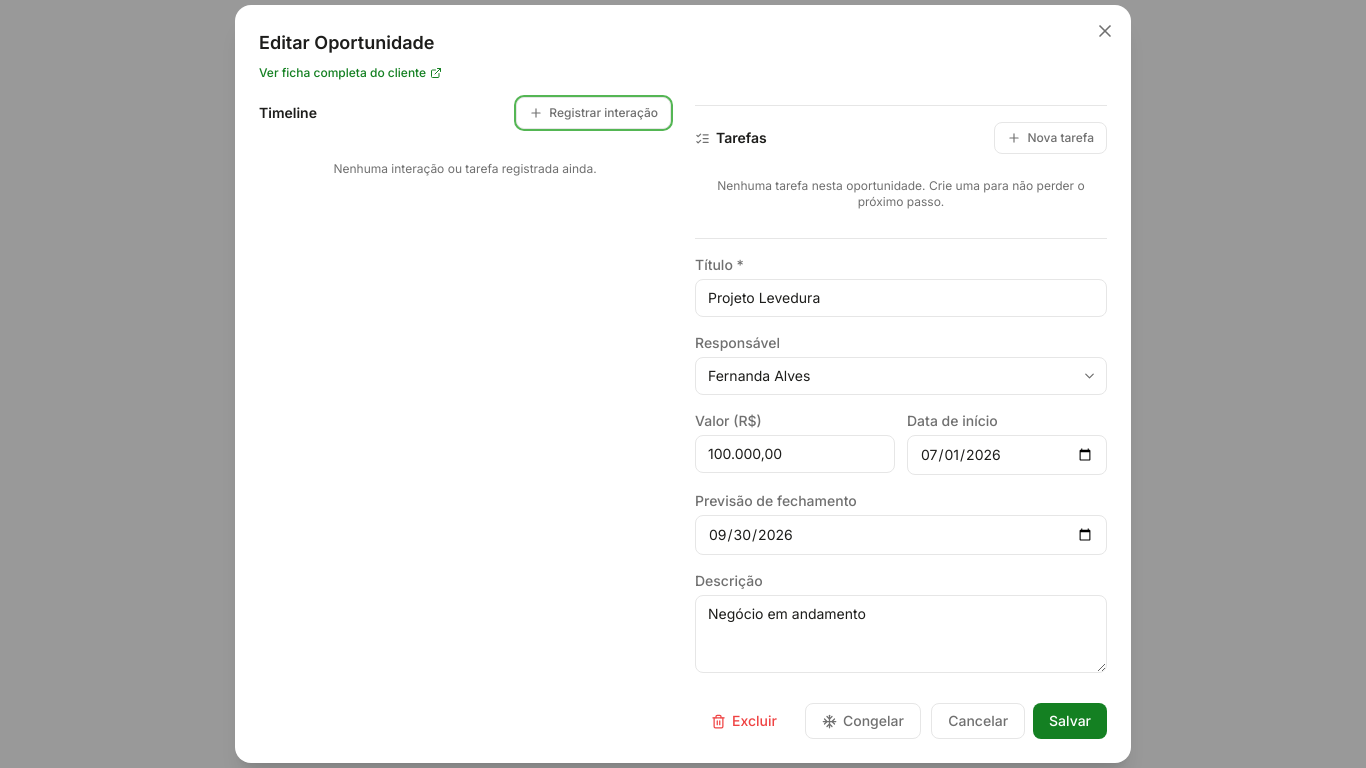
OpportunityDialog — edit mode › should ask for confirmation before deleting the deal
Click the button "Excluir".
click(744, 721)  # box [695,703,793,739]
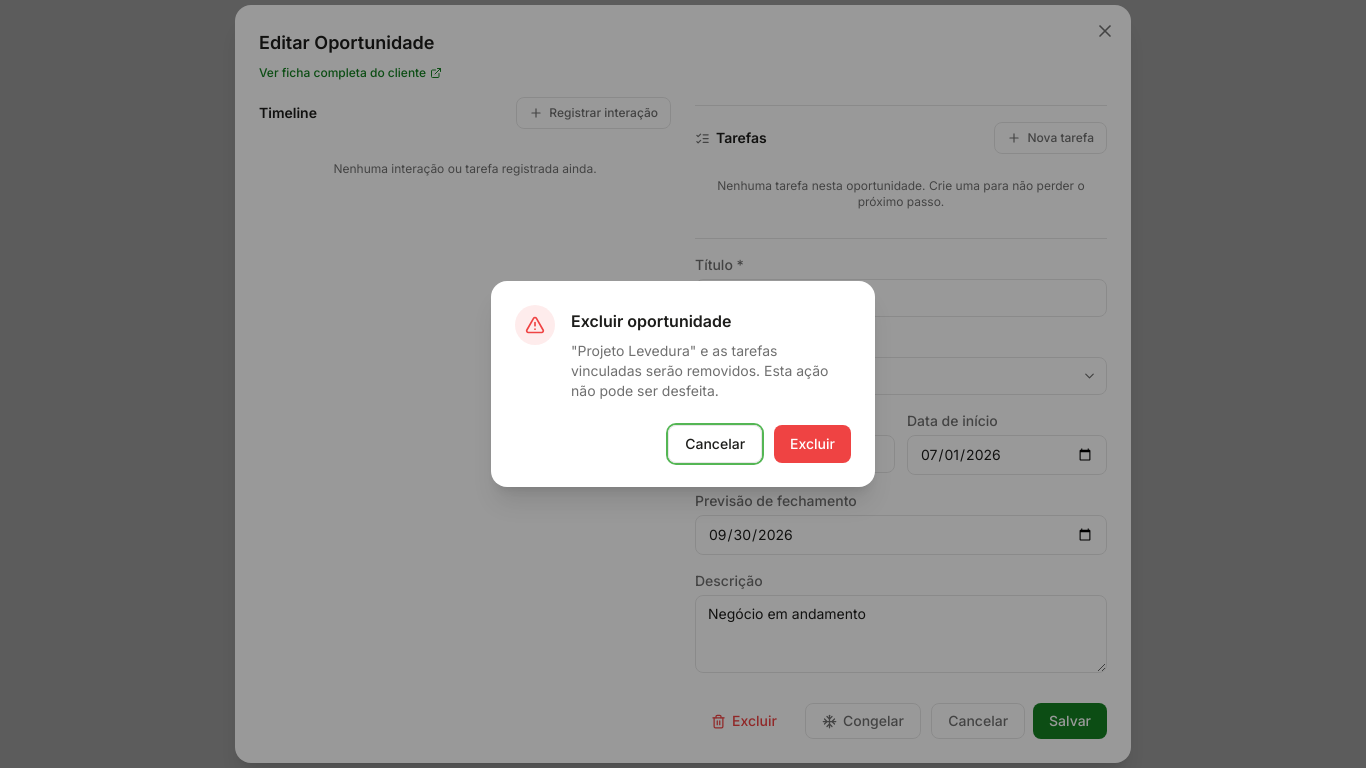
Expected: the heading "Excluir oportunidade" is shown, [571,311,732,331]
